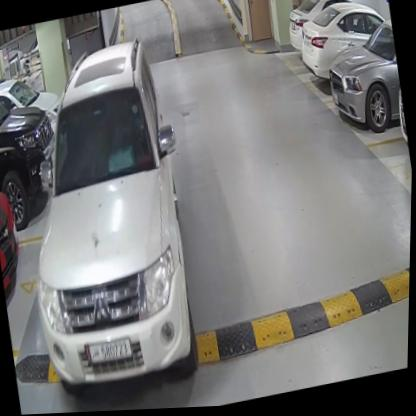np: (84, 337, 135, 367)
